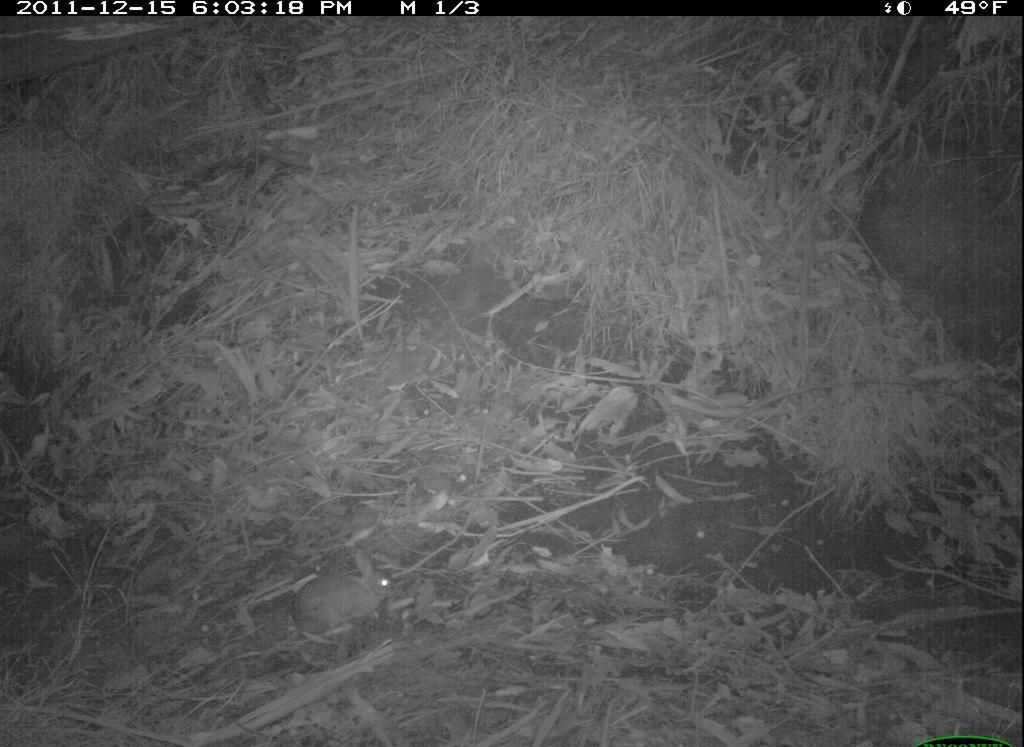rabbit: (280, 536, 408, 664)
